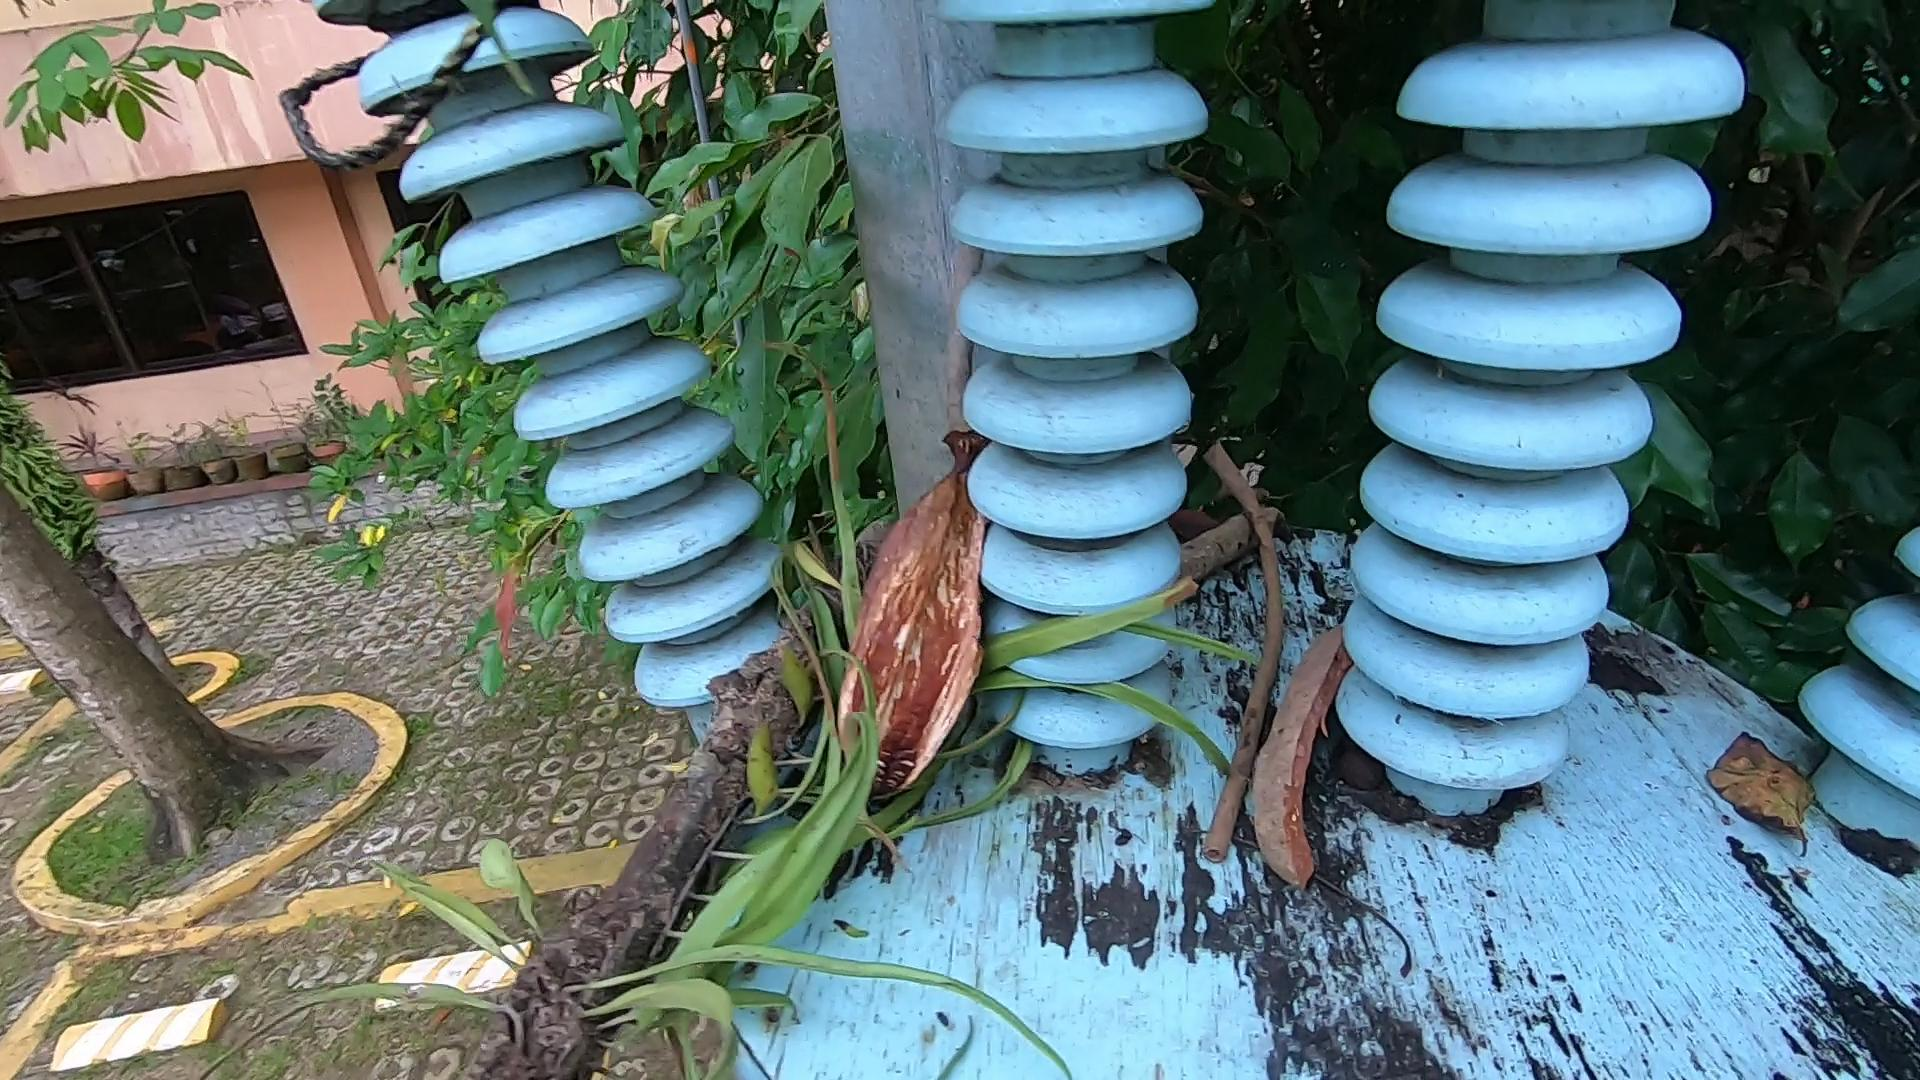branch with leaves: (222, 367, 1273, 1080)
leaf: (1710, 723, 1816, 849)
mahogany fruit: (774, 396, 1035, 833), (1208, 576, 1360, 936)
tree branch: (1199, 426, 1288, 858), (918, 196, 1011, 430), (1168, 498, 1280, 578)
